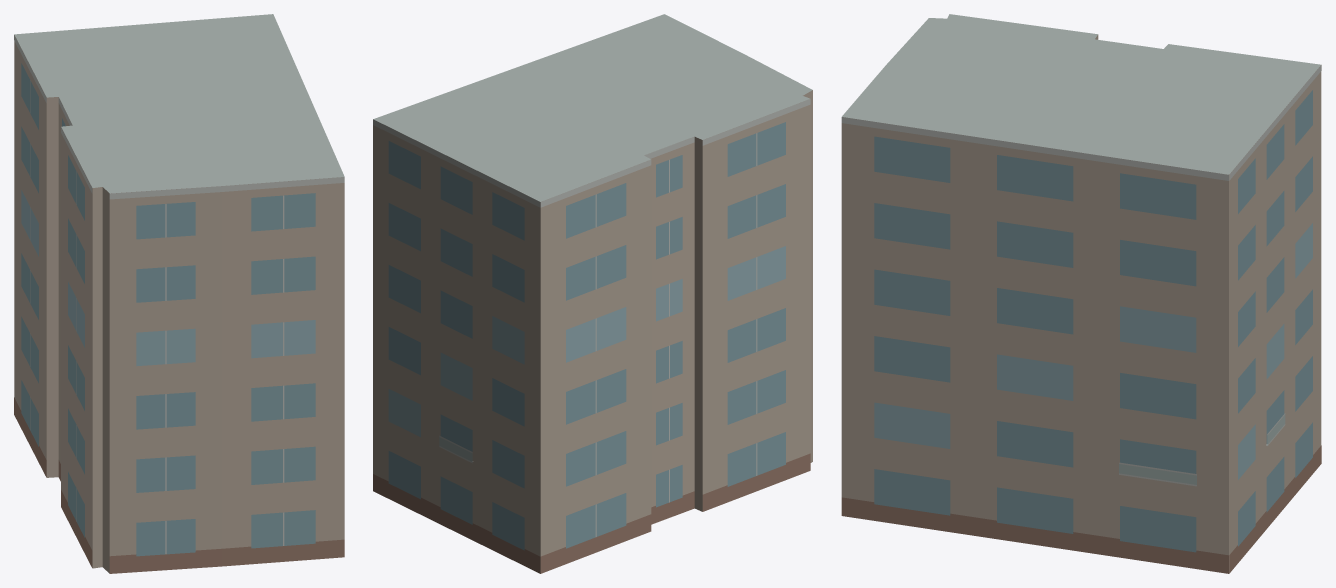
File: survey-upis-32944128.glb
The picture shows the model from 3 angles, left to right: view 1: azimuth 30°, elevation 25°; view 2: azimuth 150°, elevation 25°; view 3: azimuth 270°, elevation 25°; orthographic projection. The views are drawn at different scales.
Parts seen in each view (by area): view 1: survey-upis-32944128.tmp; view 2: survey-upis-32944128.tmp; view 3: survey-upis-32944128.tmp.
Part boxes in pixels (x1=…): survey-upis-32944128.tmp: x1=14, y1=14, x2=344, y2=573; survey-upis-32944128.tmp: x1=373, y1=14, x2=812, y2=573; survey-upis-32944128.tmp: x1=841, y1=14, x2=1321, y2=573.
Bounding box in the file's own units: 13.49 × 15.6 × 17.01.
